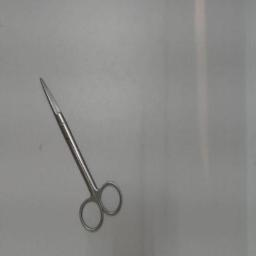Curved Mayo Scissors: (36, 72, 128, 238)
